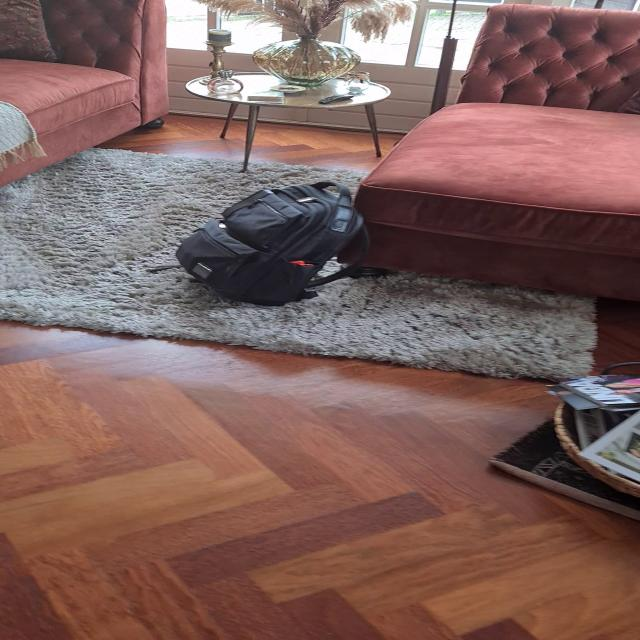backpack: (168, 177, 379, 310)
